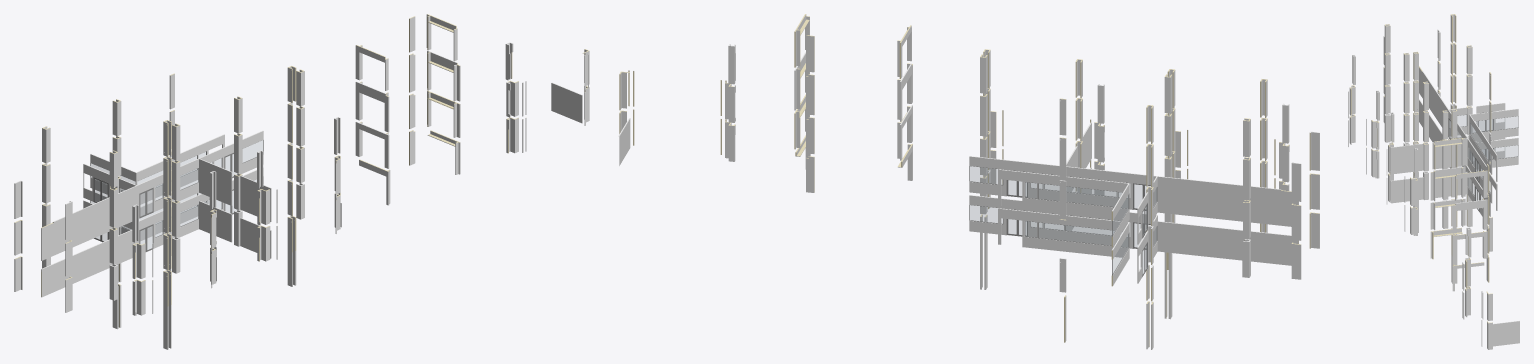
The picture shows the model from 3 angles, left to right: view 1: azimuth 30°, elevation 25°; view 2: azimuth 150°, elevation 25°; view 3: azimuth 270°, elevation 25°; orthographic projection. The views are drawn at different scales.
Parts seen in each view (by area): view 1: 6682, 4575, 6678, 6697, 4604, 4591, 6748, 8809, 4667, 4607, 6700, 6982 (+5 smaller); view 2: 6682, 4575, 4607, 6697, 6700, 7483, 5394, 4610, 4606, 6696, 6698, 4608 (+1 smaller); view 3: 6748, 6825, 4604, 4667, 6682, 4732, 6678, 8817, 7511, 8809, 4591, 7164 (+22 smaller).
Part boxes in pixels (x1=…): 6682: x1=41, y1=185, x2=137, y2=260; 4575: x1=41, y1=229, x2=137, y2=297; 6678: x1=199, y1=158, x2=232, y2=205; 6697: x1=135, y1=146, x2=198, y2=204; 4604: x1=551, y1=82, x2=582, y2=123; 4591: x1=199, y1=201, x2=232, y2=242; 6748: x1=240, y1=175, x2=271, y2=221; 8809: x1=355, y1=81, x2=389, y2=132; 4667: x1=240, y1=218, x2=271, y2=258; 4607: x1=140, y1=182, x2=198, y2=241; 6700: x1=164, y1=152, x2=213, y2=203; 6982: x1=355, y1=121, x2=389, y2=168; 6682: x1=1156, y1=176, x2=1298, y2=226; 4575: x1=1157, y1=221, x2=1298, y2=265; 4607: x1=1037, y1=212, x2=1129, y2=257; 6697: x1=1037, y1=173, x2=1129, y2=218; 6700: x1=1043, y1=164, x2=1117, y2=206; 7483: x1=1039, y1=184, x2=1127, y2=207; 5394: x1=1039, y1=223, x2=1127, y2=246; 4610: x1=1043, y1=210, x2=1117, y2=245; 4606: x1=998, y1=208, x2=1037, y2=248; 6696: x1=998, y1=169, x2=1037, y2=209; 6698: x1=969, y1=156, x2=1003, y2=195; 4608: x1=969, y1=195, x2=1003, y2=234; 6748: x1=1390, y1=143, x2=1423, y2=174; 6825: x1=1470, y1=109, x2=1518, y2=140; 4604: x1=1493, y1=320, x2=1519, y2=346; 4667: x1=1390, y1=177, x2=1423, y2=203; 6682: x1=1418, y1=67, x2=1448, y2=127; 4732: x1=1472, y1=137, x2=1518, y2=169; 6678: x1=1432, y1=138, x2=1467, y2=169; 8817: x1=1452, y1=199, x2=1487, y2=233; 7511: x1=1471, y1=116, x2=1517, y2=132; 8809: x1=1430, y1=166, x2=1465, y2=200; 4591: x1=1435, y1=172, x2=1467, y2=197; 7164: x1=1452, y1=231, x2=1487, y2=262.
Bounding box in the file's own units: 61.19 × 22.12 × 18.97.
